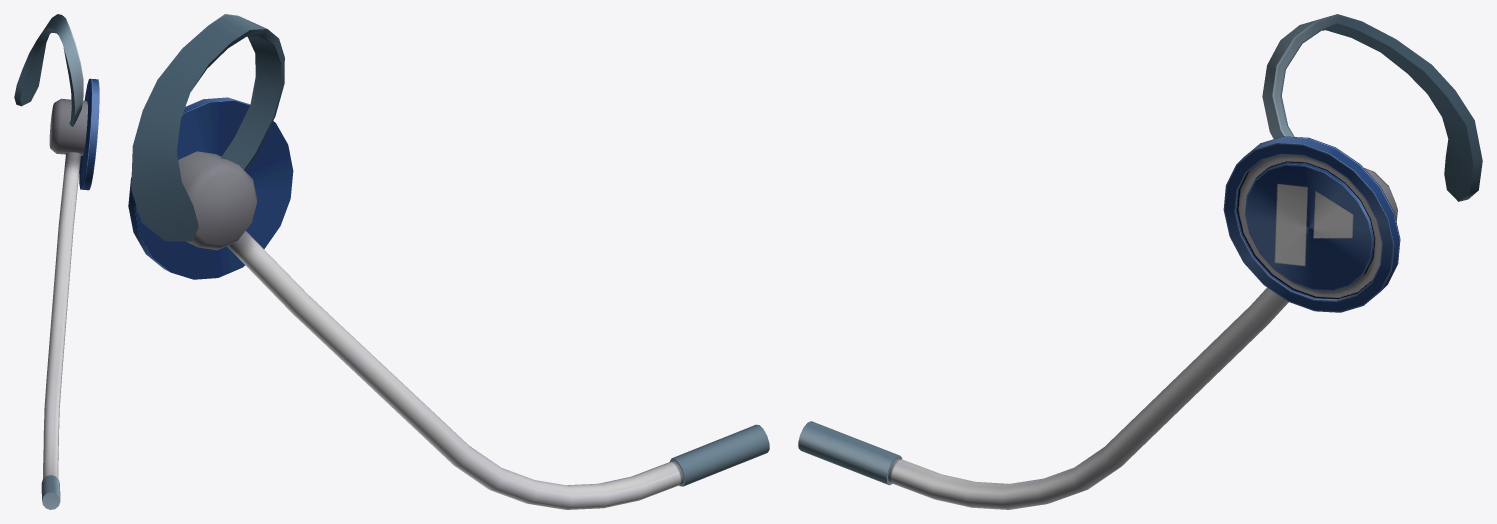
File: EntrainingIntercomMakoto.fbx
3 views of the same model, side by side, from view 1: azimuth 30°, elevation 25°; view 2: azimuth 150°, elevation 25°; view 3: azimuth 270°, elevation 25° (orthographic). The views are drawn at different scales.
Visible parts, largest first — view 1: EntrainingIntercomMakoto; view 2: EntrainingIntercomMakoto; view 3: EntrainingIntercomMakoto.
Part boxes in pixels (x1=…): EntrainingIntercomMakoto: x1=14, y1=14, x2=99, y2=509; EntrainingIntercomMakoto: x1=128, y1=14, x2=769, y2=509; EntrainingIntercomMakoto: x1=798, y1=14, x2=1482, y2=509.
Size of the model in its own units: 0.0497 by 0.0753 by 0.0785.
Materials: 1 (1 with a texture image).
